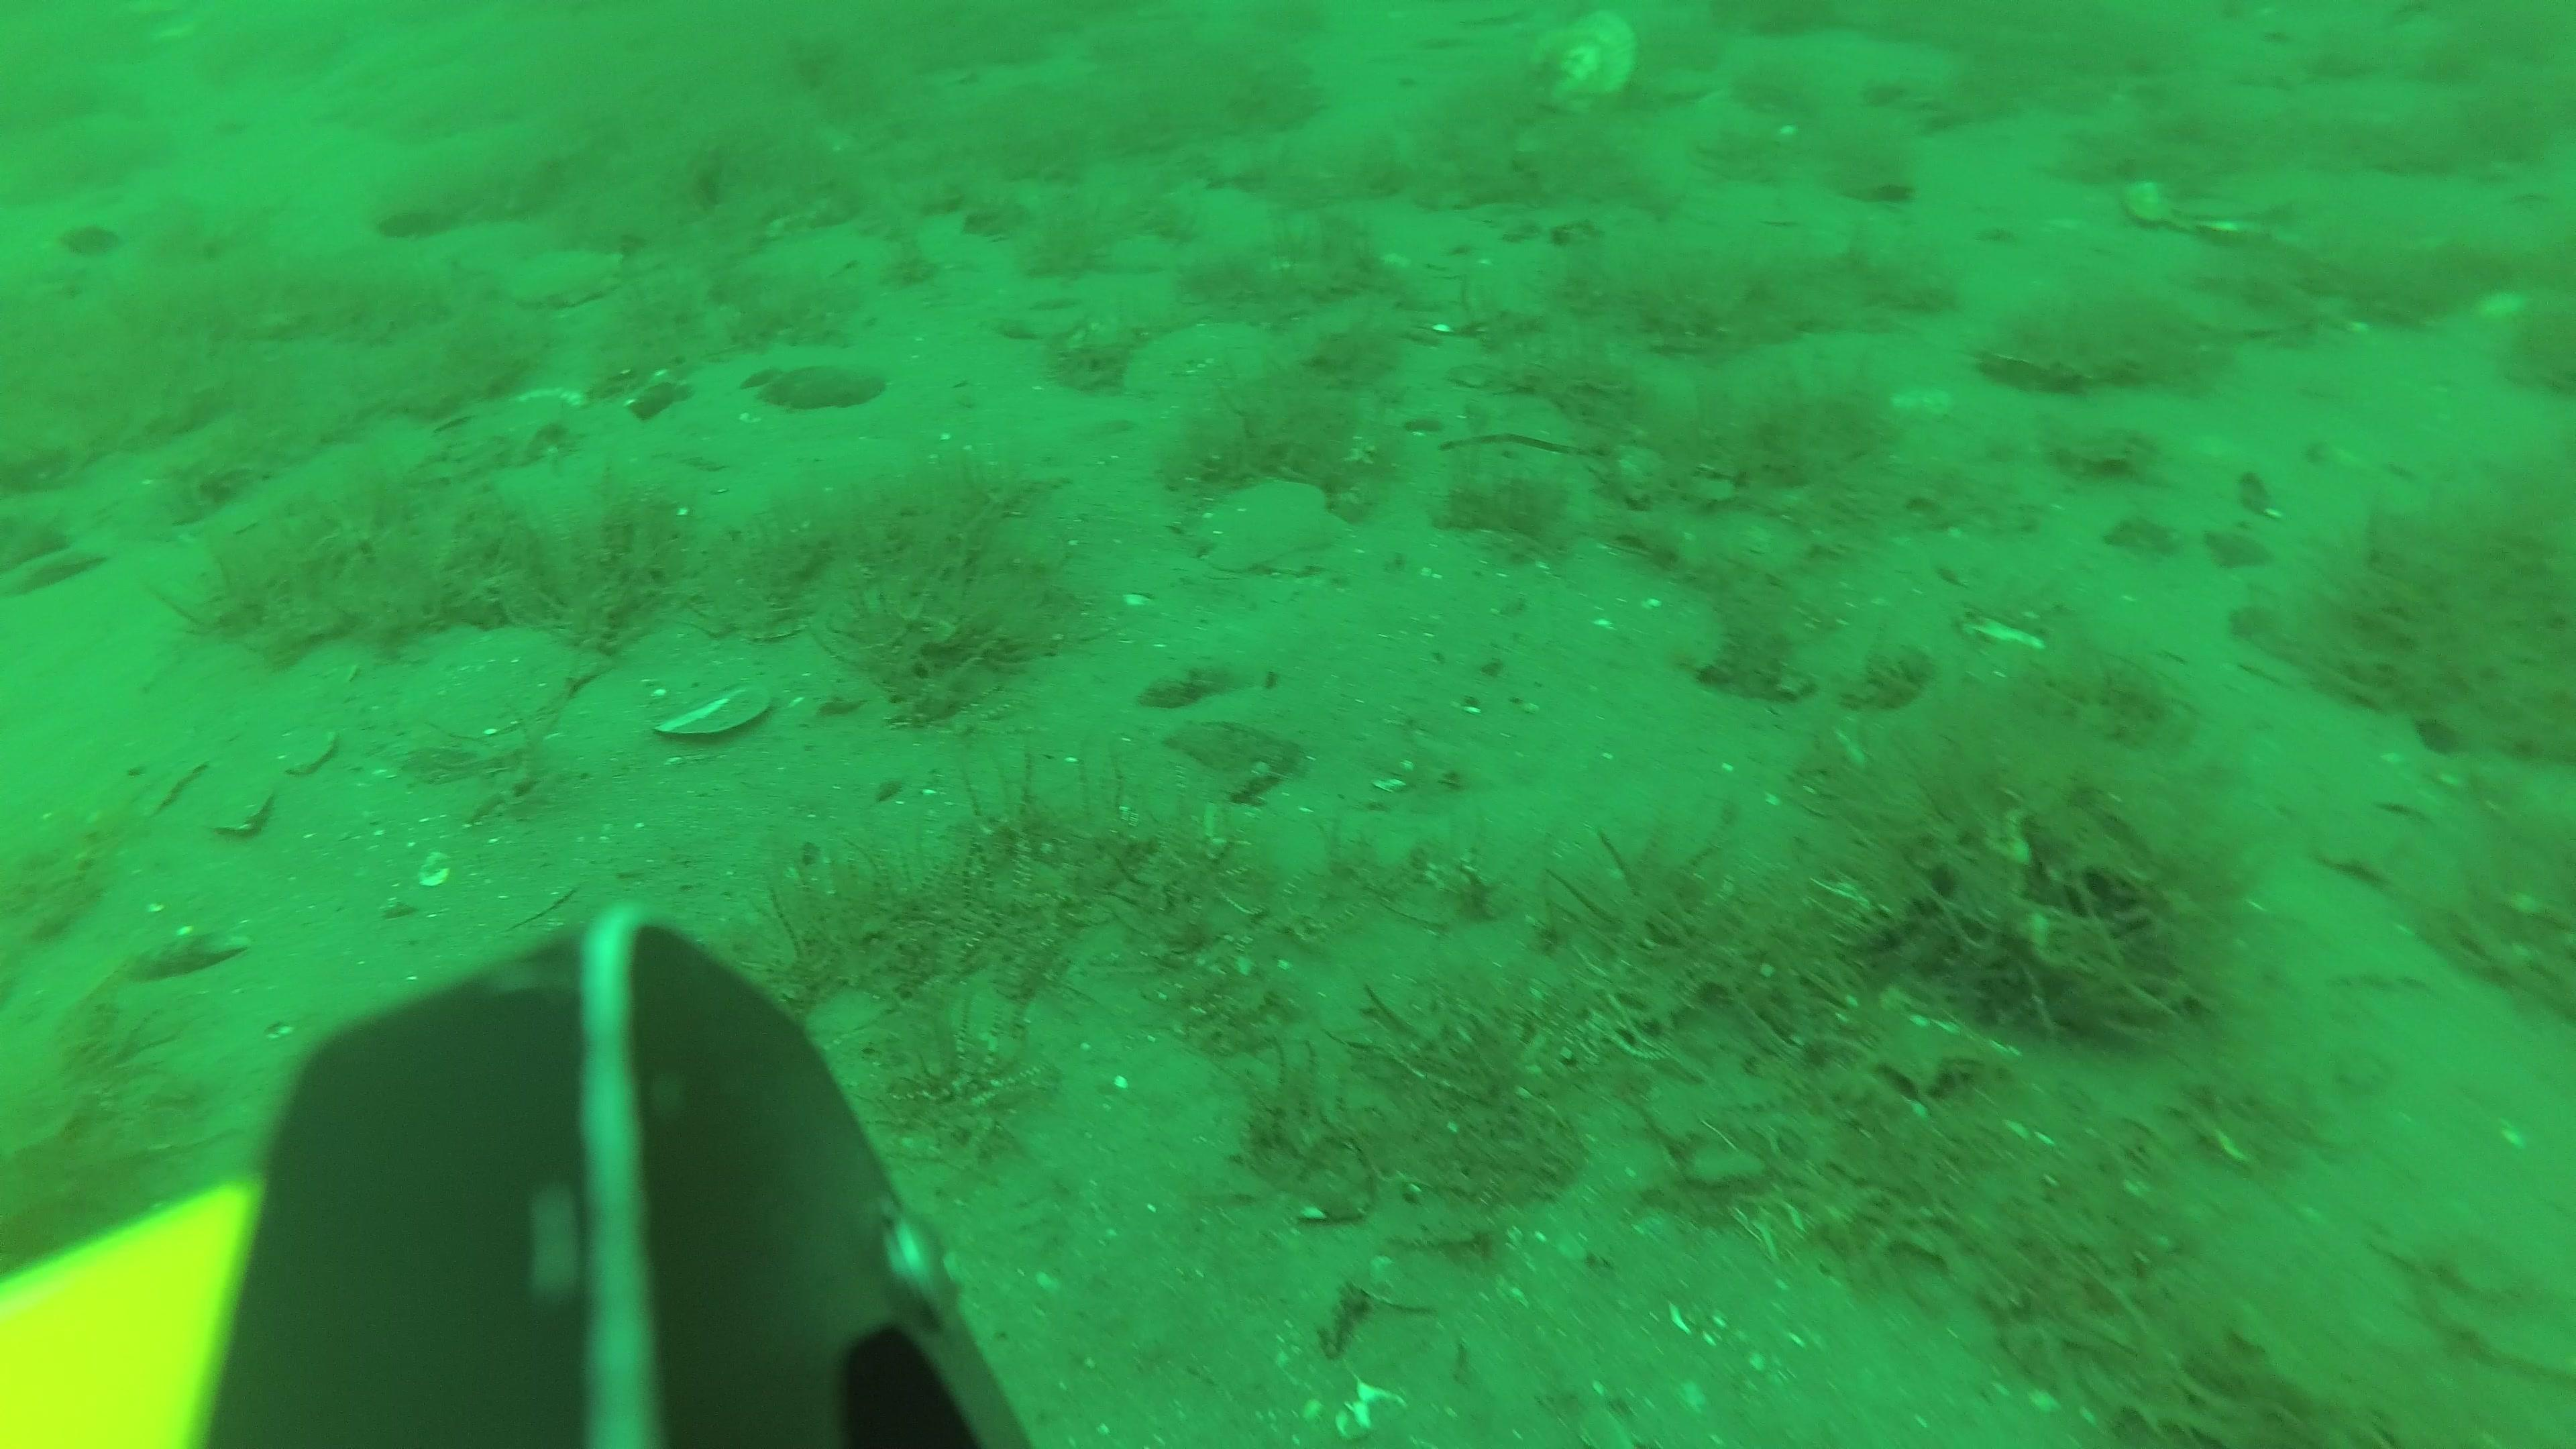scallop: (430, 630, 596, 727), (1194, 485, 1345, 573), (2128, 166, 2296, 237), (1523, 12, 1635, 117), (506, 248, 623, 304)
